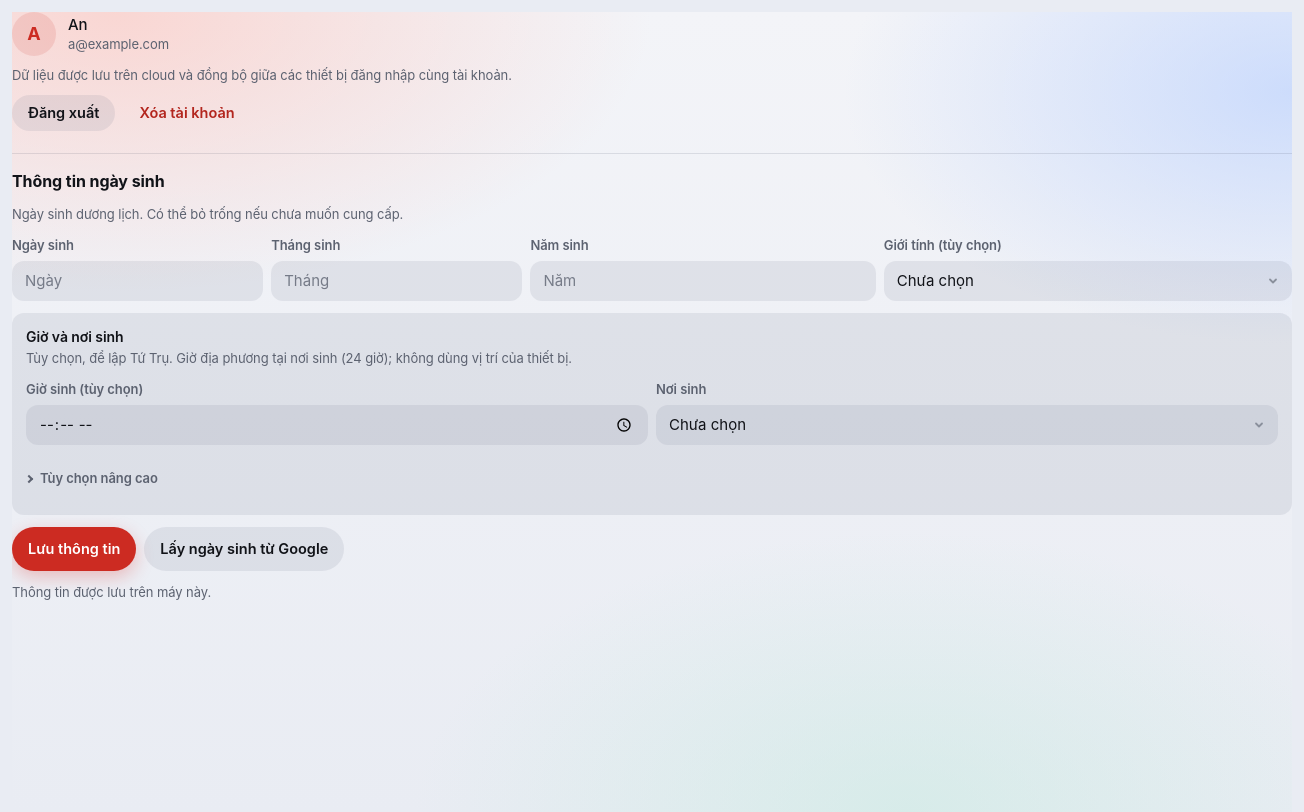
Test: Thông tin ngày sinh trong Tài khoản › lỗi Google giữ thông tin đang nhập và cho phép lưu tay
Type "15" into the number field labelled "Ngày sinh" at (138, 281), box [12, 261, 263, 301]
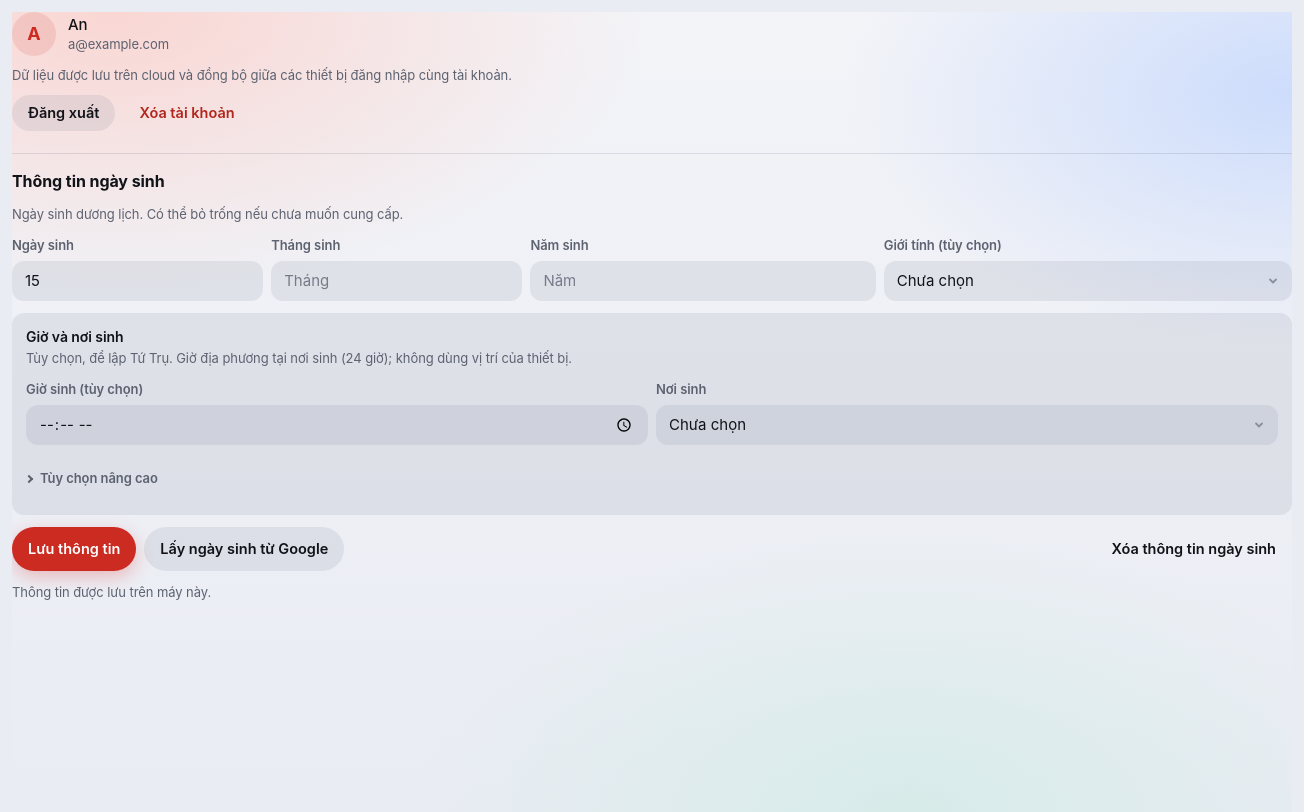
Type "5" into the number field labelled "Tháng sinh" at (397, 281), box [271, 261, 522, 301]
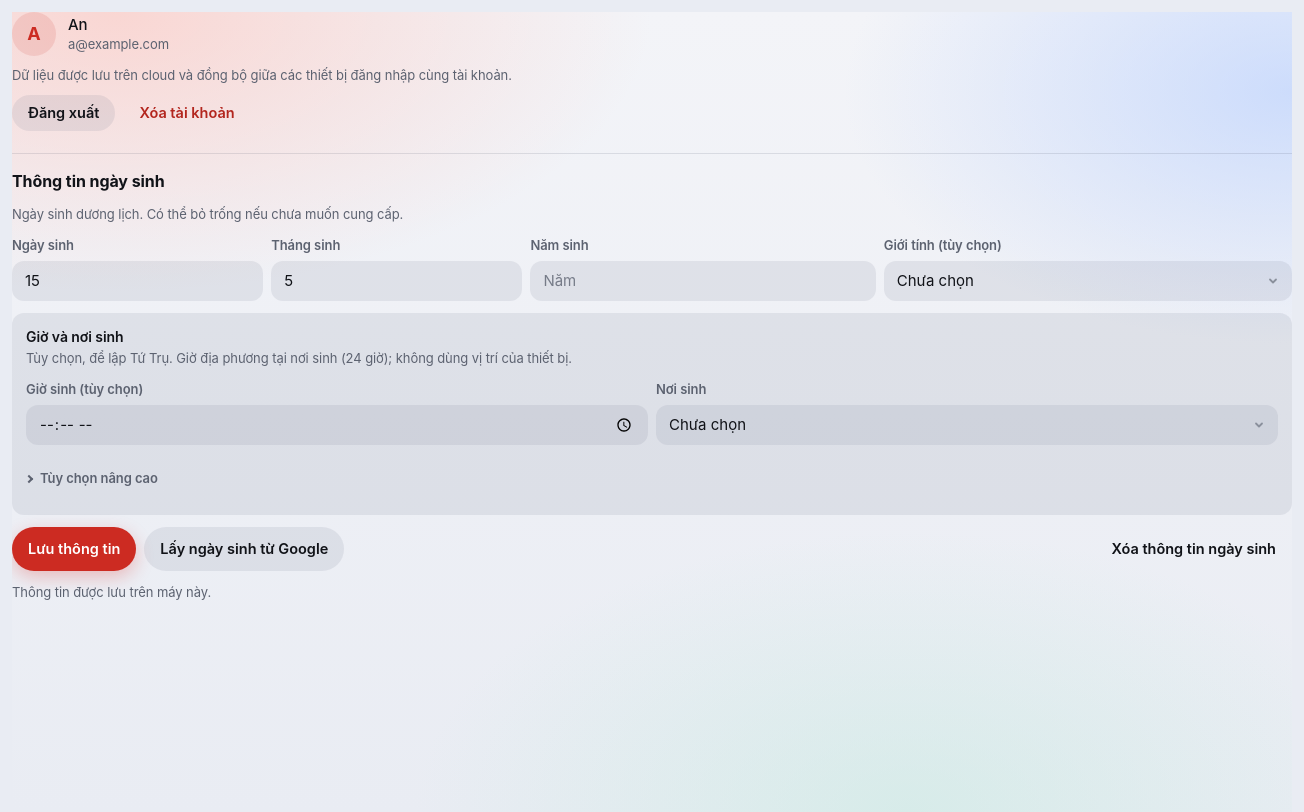
Type "1995" into the number field labelled "Năm sinh" at (703, 281), box [530, 261, 876, 301]
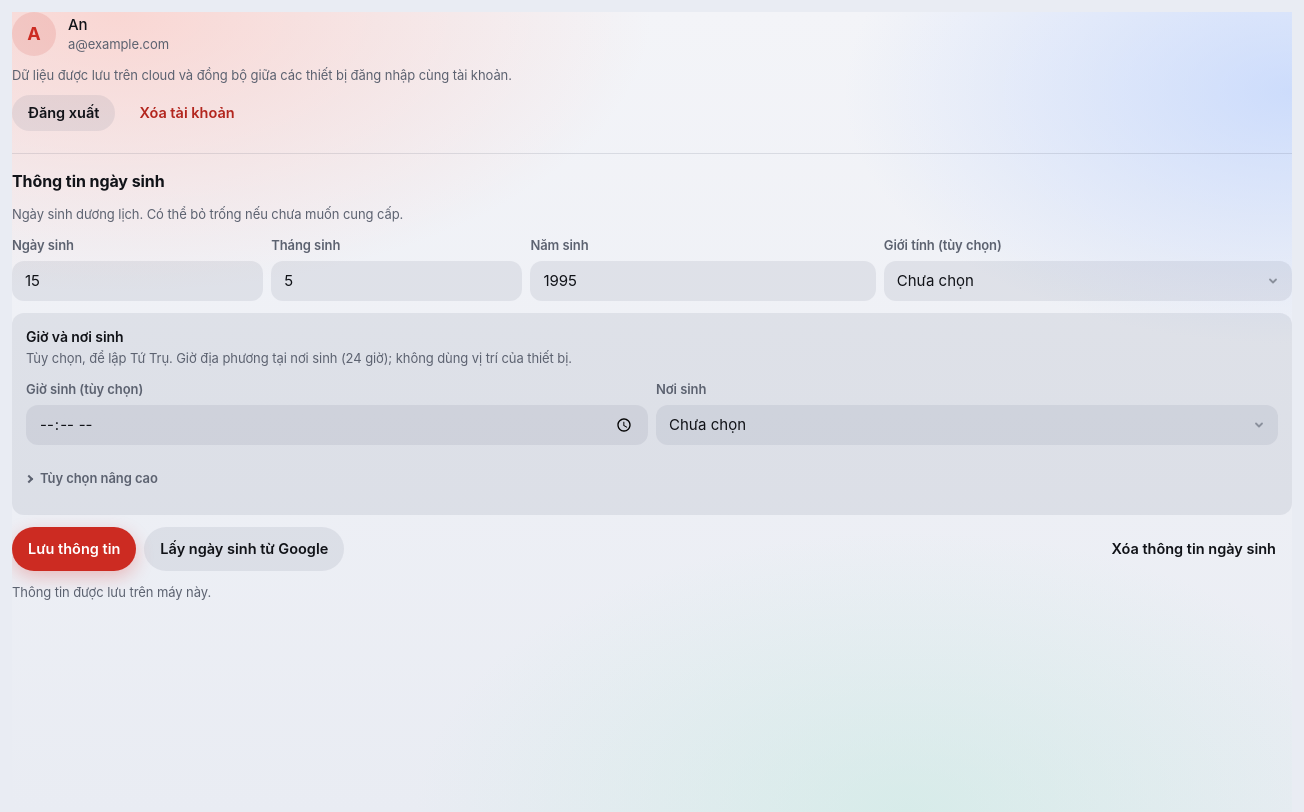
Click the button "Lấy ngày sinh từ Google" at (244, 549), box [144, 527, 344, 571]
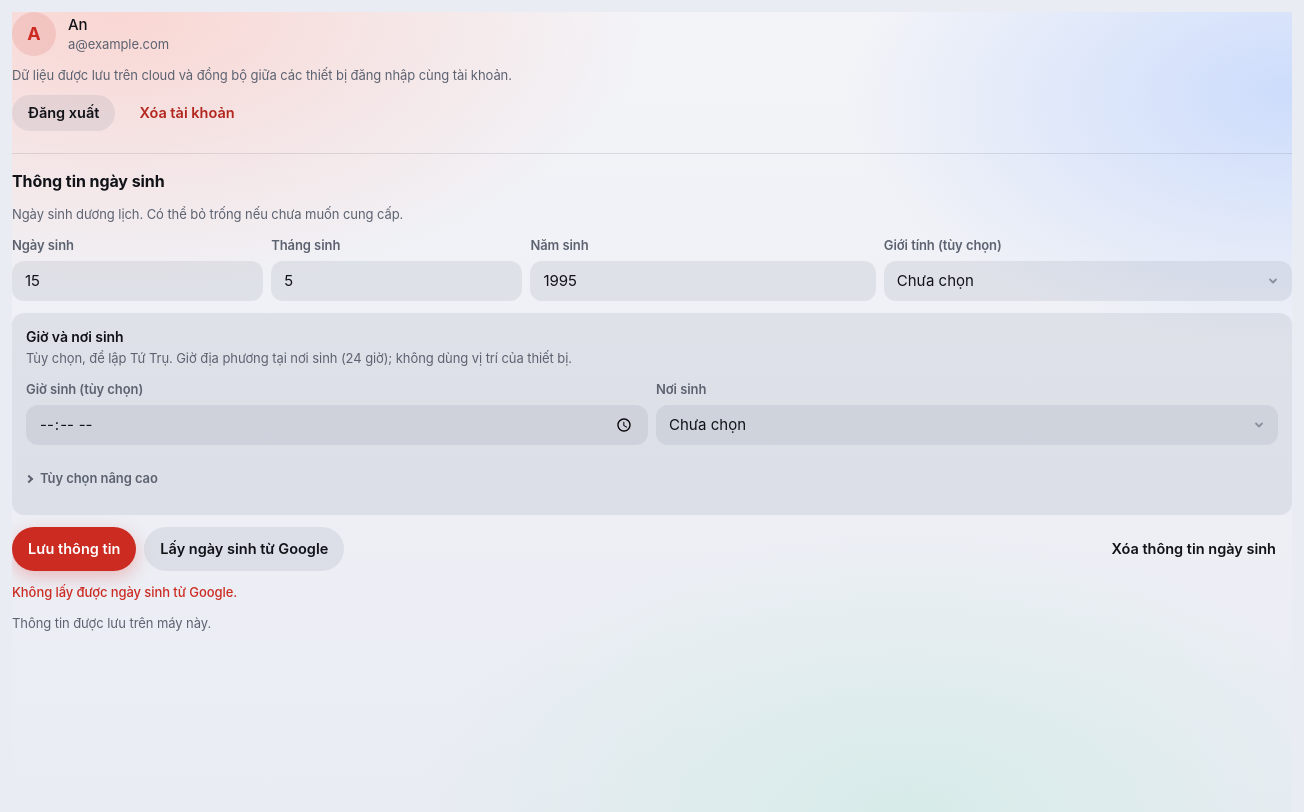
Expected: the button "Lưu thông tin" is enabled, [12, 527, 136, 571]
Now the message "Không lấy được ngày sinh từ Google." is shown, box [12, 584, 237, 600]
